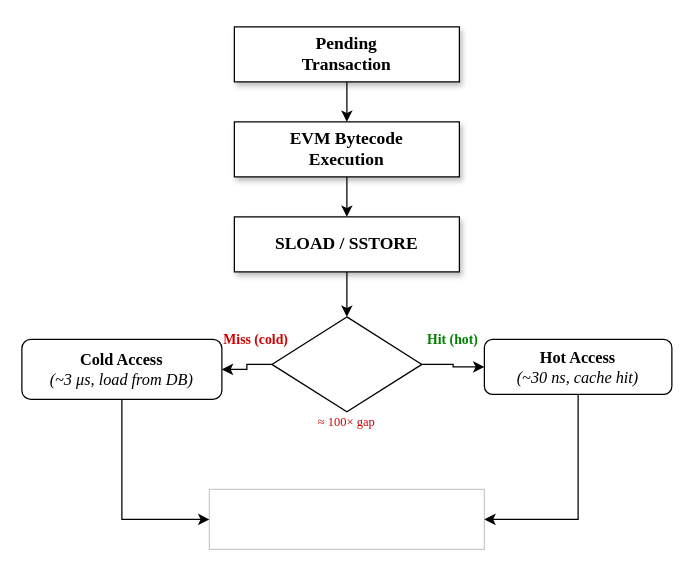
The diagram is 694 pixels wide and 571 high, and some of its shapes have lost their labels. Here are the shapes that lost their labels. From the top down, the centre of each, then its label:
At (346,364): "Check Intra-block Cache".
At (346,518): "Return Storage Value".
